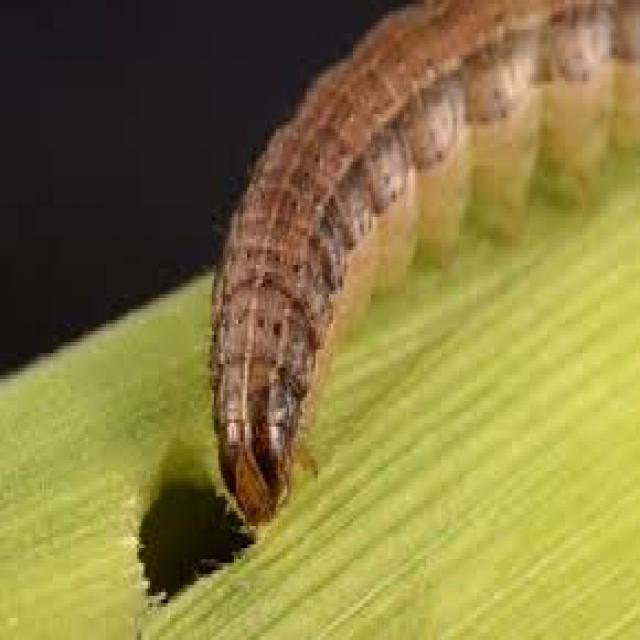armyworm: (214, 1, 640, 531)
